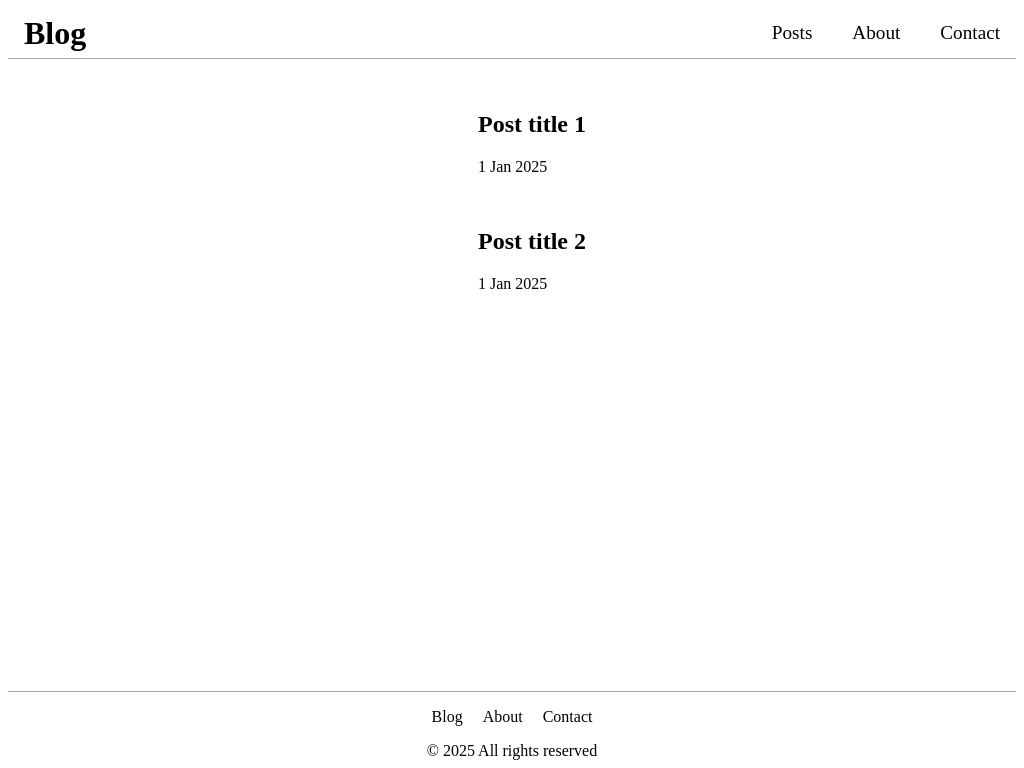
Test: App component › Header › should render contact page
Click the link "Contact" in the row of "Posts" at {"x": 970, "y": 33}, box [940,22,1000,44]
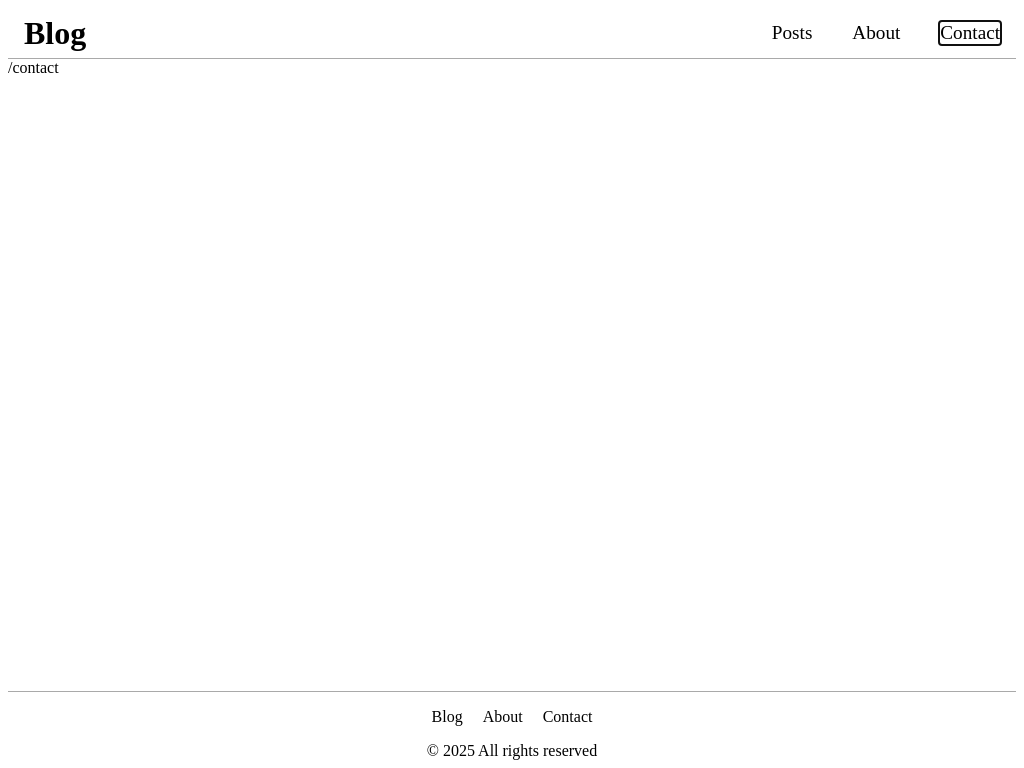
Now the text "/contact" is shown, box [8,59,59,76]
